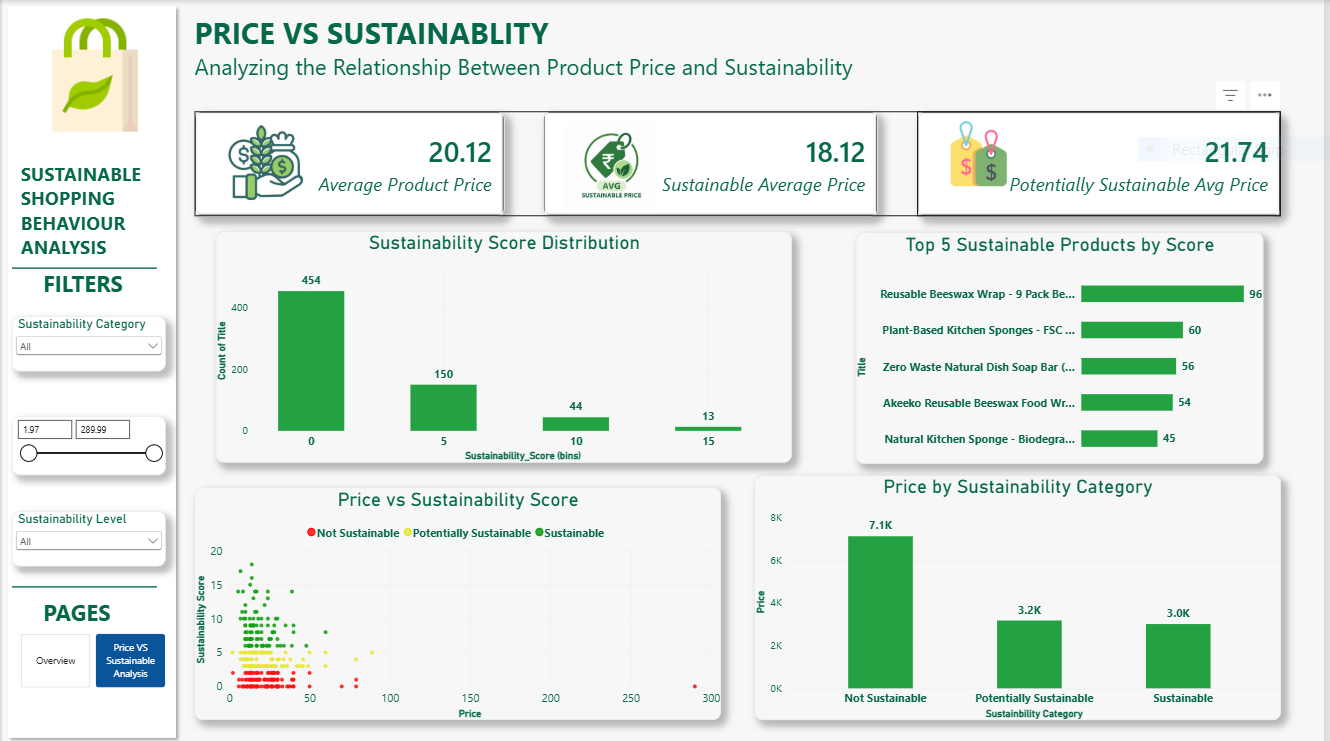

The page's visual inventory and layout, read from the dashboard file:
{"tool":"powerbi","page":{"name":"Price VS Sustainable Analysis","canvas":[1920,1080],"ordinal":1},"visuals":[{"type":"shape","box":[0,0,261.5,1080.4],"z":0,"group":"g4"},{"type":"image","box":[27.2,18.2,210.6,181.6],"z":1000,"group":"g4"},{"type":"textbox","box":[27.2,234.2,197.9,159.8],"z":2000,"group":"g4"},{"type":"shape","box":[14.5,314.1,210.6,150.7],"z":3000,"group":"g4"},{"type":"textbox","box":[279.6,18.2,1013.2,143.4],"z":4000},{"type":"cardVisual","fields":{"Data":["Sustainable_Shopping_Analysis_Final.Average Product Price"]},"box":[279.6,161.6,450.3,152.5],"z":5000,"group":"g1"},{"type":"cardVisual","fields":{"Data":["Sustainable_Shopping_Analysis_Final.Sustainable Average Price"]},"box":[786.2,161.6,486.6,152.5],"z":6000,"group":"g2"},{"type":"cardVisual","fields":{"Data":["Sustainable_Shopping_Analysis_Final.Potentially Sustainable Avg Price"]},"box":[1329.1,161.6,528.4,152.5],"z":7000,"group":"g3"},{"type":"scatterChart","title":"Price vs Sustainability Score","fields":{"X":["Sustainable_Shopping_Analysis_Final.Price"],"Y":["Sustainable_Shopping_Analysis_Final.Sustainability_Score"],"Series":["Sustainable_Shopping_Analysis_Final.Sustainability_Category"]},"box":[279.6,708.1,764.4,337.7],"z":8000},{"type":"clusteredColumnChart","title":"Price by Sustainability Category","fields":{"Y":["Sum(Sustainable_Shopping_Analysis_Final.Price)"],"Category":["Sustainable_Shopping_Analysis_Final.Sustainability_Category"]},"box":[1093.1,690,764.4,355.9],"z":9000},{"type":"clusteredBarChart","title":"Top 5 Sustainable Products by Score","fields":{"Category":["Sustainable_Shopping_Analysis_Final.Title"],"Y":["Sum(Sustainable_Shopping_Analysis_Final.Sustainability_Score)"]},"box":[1240.2,337.7,591.9,335.9],"z":9001},{"type":"clusteredColumnChart","title":"Sustainability Score Distribution","fields":{"Y":["CountNonNull(Sustainable_Shopping_Analysis_Final.Title)"],"Category":["Sustainable_Shopping_Analysis_Final.Sustainability_Score (bins)"]},"box":[310.5,335.9,837.1,335.9],"z":9002},{"type":"textbox","box":[59.9,390.4,150.7,52.7],"z":9003,"group":"g4"},{"type":"slicer","fields":{"Values":["Sustainable_Shopping_Analysis_Final.Sustainability_Category"]},"box":[14.5,459.4,223.3,79.9],"z":9004,"group":"g4"},{"type":"slicer","fields":{"Values":["Sustainable_Shopping_Analysis_Final.Price"]},"box":[14.5,604.6,223.3,85.3],"z":9005,"group":"g4"},{"type":"textbox","box":[74.4,570.1,118,34.5],"z":9006},{"type":"slicer","fields":{"Values":["Sustainable_Shopping_Analysis_Final.Sustainability_Evidence_Level"]},"box":[14.5,742.6,223.3,79.9],"z":9007,"group":"g4"},{"type":"shape","box":[14.5,797.1,210.6,110.8],"z":9008,"group":"g4"},{"type":"textbox","box":[59.9,867.9,132.5,52.7],"z":9009,"group":"g4"},{"type":"pageNavigator","box":[27.2,920.6,210.6,78.1],"z":9010,"group":"g4"},{"type":"image","box":[1329.1,176.1,179.8,94.4],"z":9011,"group":"g3"},{"type":"image","box":[804.4,176.1,161.6,132.5],"z":9012,"group":"g2"},{"type":"image","box":[295.9,176.1,174.3,119.8],"z":9013,"group":"g1"},{"type":"group","id":"g1","title":"Group 1","box":[279.6,161.6,450.3,152.5],"z":9014,"group":"g2"},{"type":"group","id":"g2","title":"Group 2","box":[279.6,161.6,993.2,152.5],"z":9015,"group":"g3"},{"type":"group","id":"g3","title":"Group 3","box":[279.6,161.6,1577.9,152.5],"z":9016},{"type":"group","id":"g4","title":"Group 4","box":[0,0,261.5,1080.4],"z":9017}]}

Visuals, with their boxes on the page's 1920x1080 design canvas (x1, y1, x2, y2). These are canvas units, not pixel positions in the 1330x741 screenshot, which may show the page scaled, cropped or inside an application window:
shape: bbox=(0, 0, 262, 1080)
image: bbox=(27, 18, 238, 200)
textbox: bbox=(27, 234, 225, 394)
shape: bbox=(14, 314, 225, 465)
textbox: bbox=(280, 18, 1293, 162)
cardVisual - Sustainable_Shopping_Analysis_Final.Average Product Price: bbox=(280, 162, 730, 314)
cardVisual - Sustainable_Shopping_Analysis_Final.Sustainable Average Price: bbox=(786, 162, 1273, 314)
cardVisual - Sustainable_Shopping_Analysis_Final.Potentially Sustainable Avg Price: bbox=(1329, 162, 1858, 314)
"Price vs Sustainability Score" scatterChart: bbox=(280, 708, 1044, 1046)
"Price by Sustainability Category" clusteredColumnChart: bbox=(1093, 690, 1858, 1046)
"Top 5 Sustainable Products by Score" clusteredBarChart: bbox=(1240, 338, 1832, 674)
"Sustainability Score Distribution" clusteredColumnChart: bbox=(310, 336, 1148, 672)
textbox: bbox=(60, 390, 211, 443)
slicer - Sustainable_Shopping_Analysis_Final.Sustainability_Category: bbox=(14, 459, 238, 539)
slicer - Sustainable_Shopping_Analysis_Final.Price: bbox=(14, 605, 238, 690)
textbox: bbox=(74, 570, 192, 605)
slicer - Sustainable_Shopping_Analysis_Final.Sustainability_Evidence_Level: bbox=(14, 743, 238, 822)
shape: bbox=(14, 797, 225, 908)
textbox: bbox=(60, 868, 192, 921)
pageNavigator: bbox=(27, 921, 238, 999)
image: bbox=(1329, 176, 1509, 270)
image: bbox=(804, 176, 966, 309)
image: bbox=(296, 176, 470, 296)
"Group 1" group: bbox=(280, 162, 730, 314)
"Group 2" group: bbox=(280, 162, 1273, 314)
"Group 3" group: bbox=(280, 162, 1858, 314)
"Group 4" group: bbox=(0, 0, 262, 1080)
